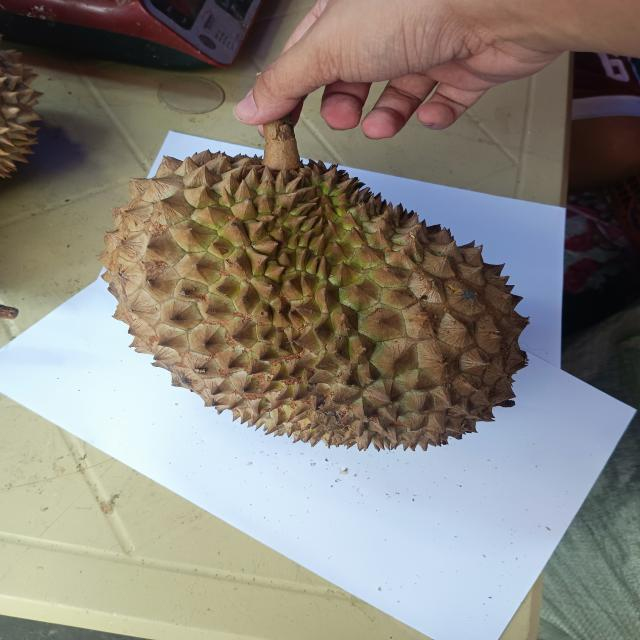mature: (97, 145, 528, 448)
